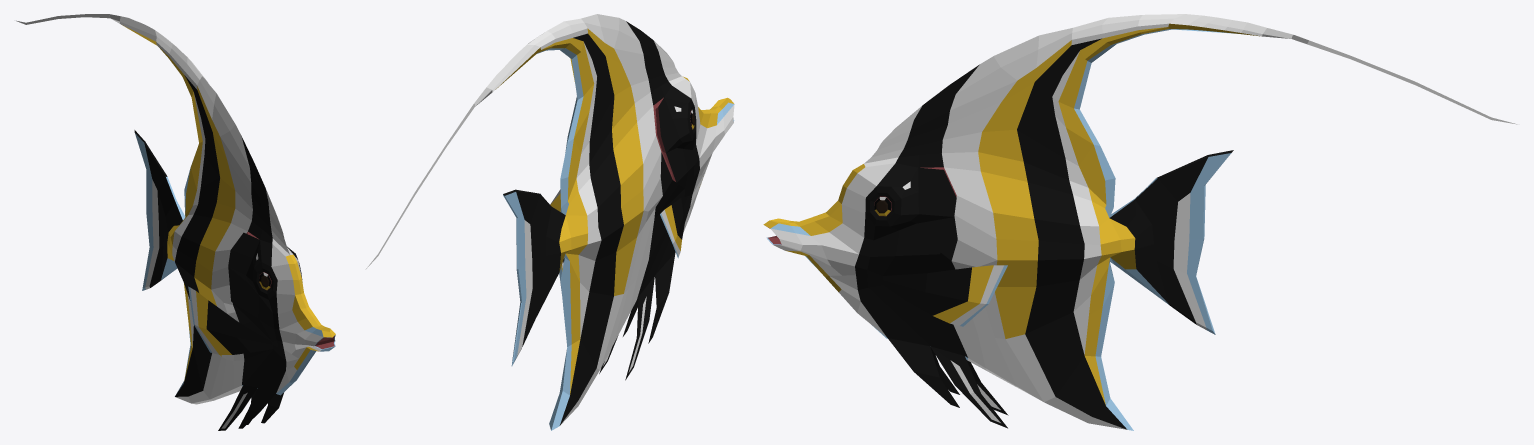
The model's file is Moore_Idol.glb.
The picture shows the model from 3 angles, left to right: view 1: azimuth 30°, elevation 25°; view 2: azimuth 150°, elevation 25°; view 3: azimuth 270°, elevation 25°; orthographic projection. The views are drawn at different scales.
Parts seen in each view (by area): view 1: Moore Idol; view 2: Moore Idol; view 3: Moore Idol.
Boxes of the visible parts, bbox=[...] form: Moore Idol: bbox=[16, 14, 335, 430]; Moore Idol: bbox=[365, 14, 734, 430]; Moore Idol: bbox=[763, 14, 1517, 430].
Bounding box in the file's own units: 1.61 × 6.1 × 10.02.
